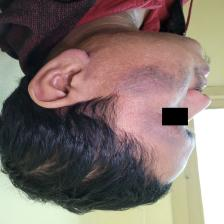DA: (62, 48, 94, 66)
